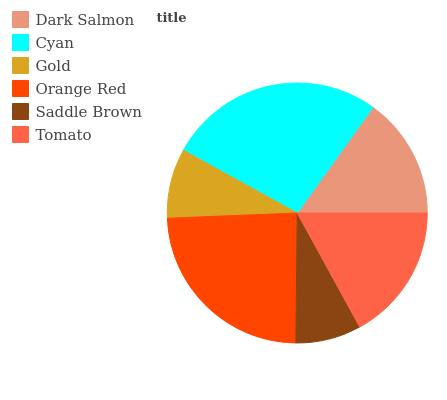legend: (2, 4, 148, 154)
sector: (183, 82, 374, 211), (167, 211, 295, 346), (297, 210, 431, 327), (298, 107, 431, 212), (164, 150, 299, 218), (294, 210, 361, 346)
